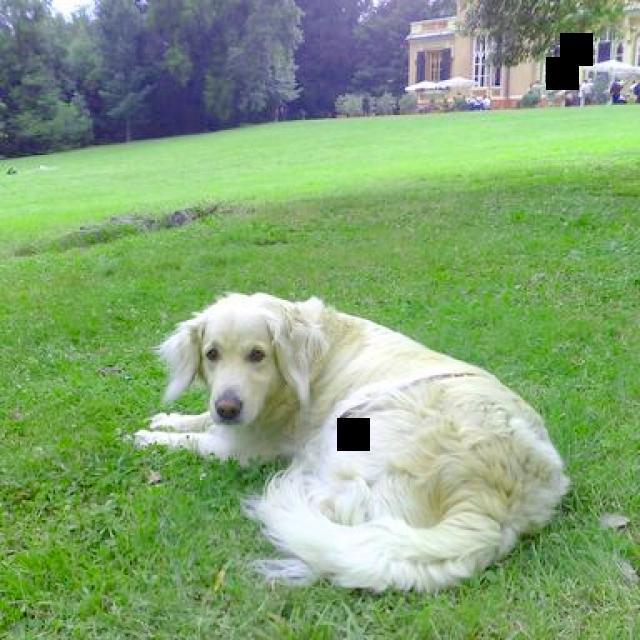adult_dog: (130, 289, 573, 596)
